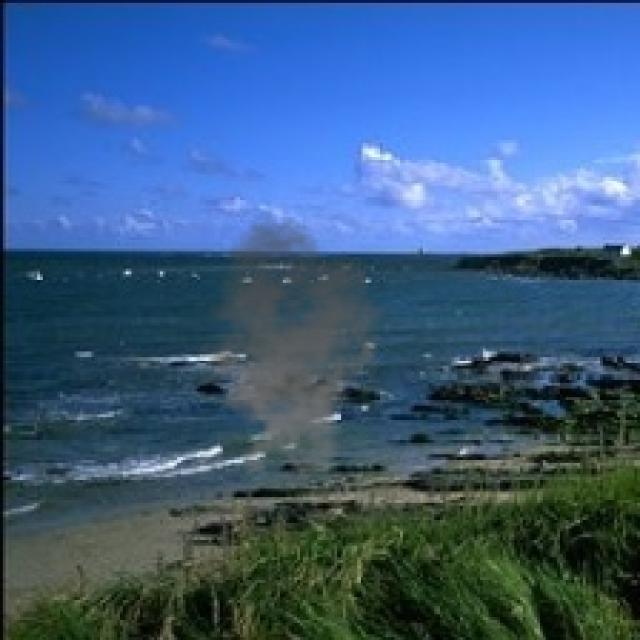Smoke: (185, 217, 388, 472)
